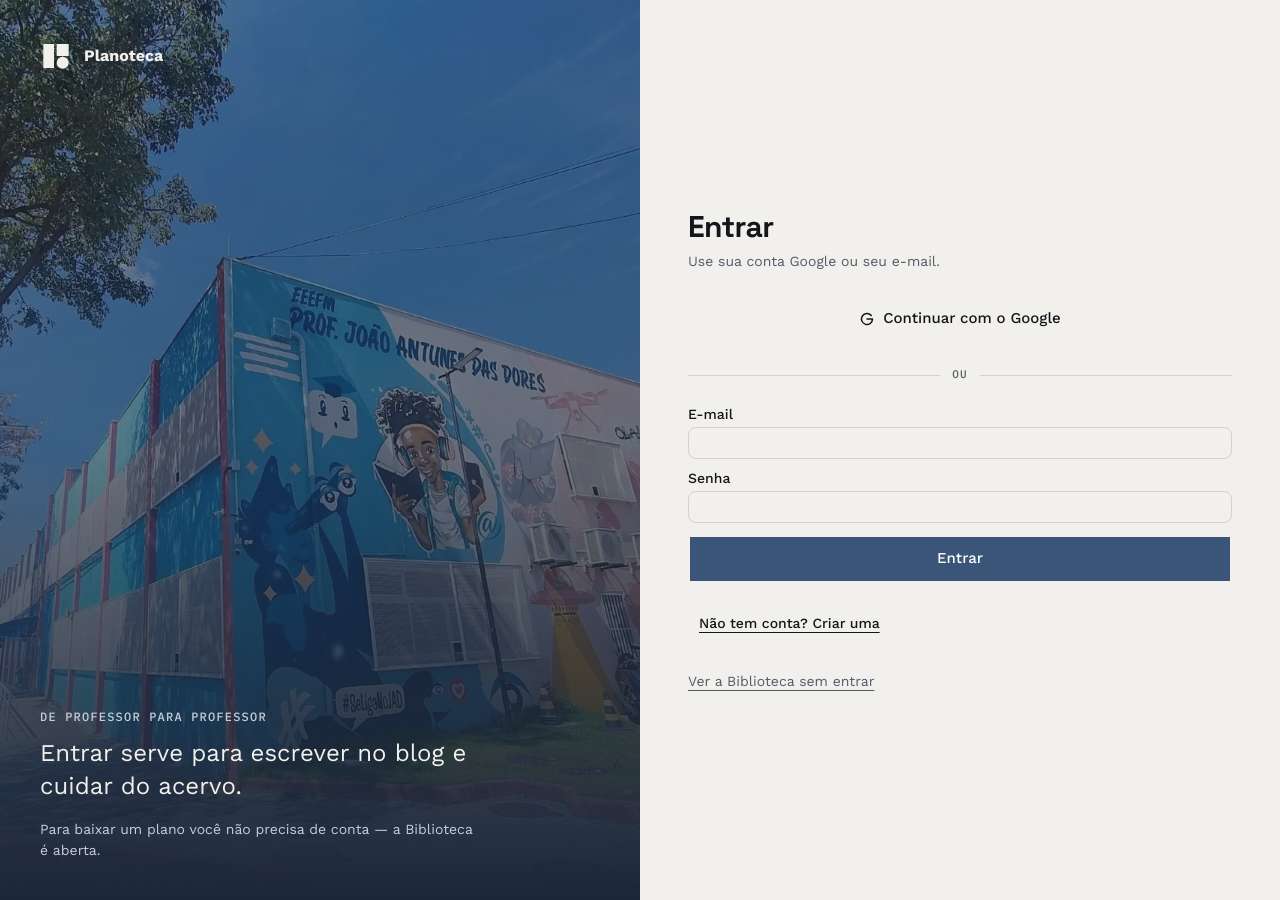
Test case: PaginaEntrar › não despeja código de configuração do Firebase na tela
Click the button "Continuar com o Google".
click(960, 319)  # box [688, 295, 1232, 343]
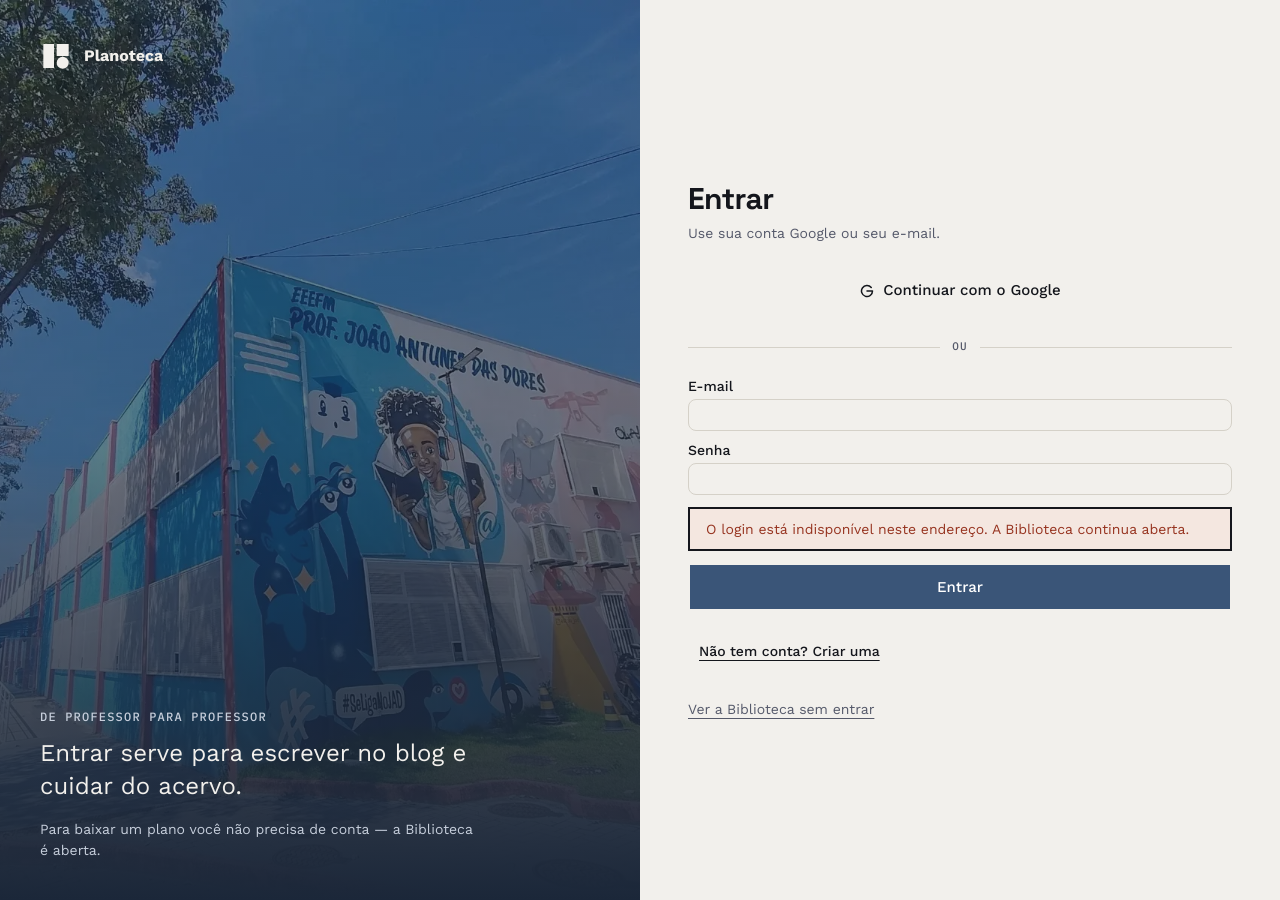
Expected: the message does not show "auth/", [688, 507, 1232, 551]
Expected: the message shows "A Biblioteca continua aberta.", [706, 521, 1189, 537]
